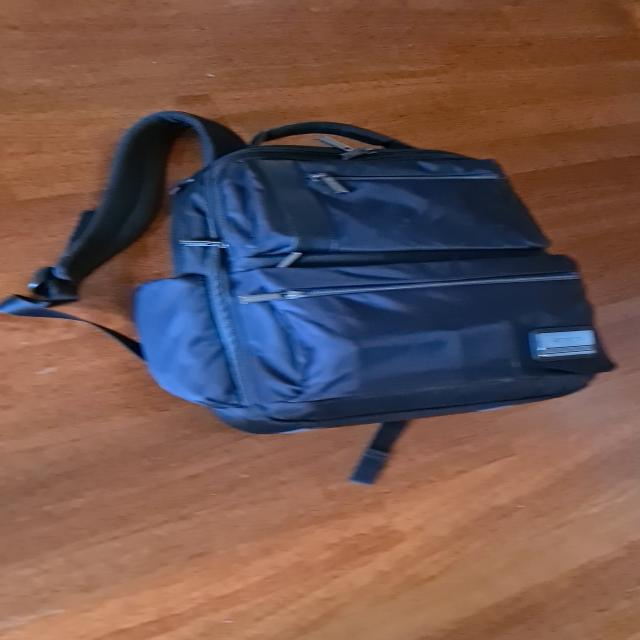backpack: (107, 108, 626, 442)
